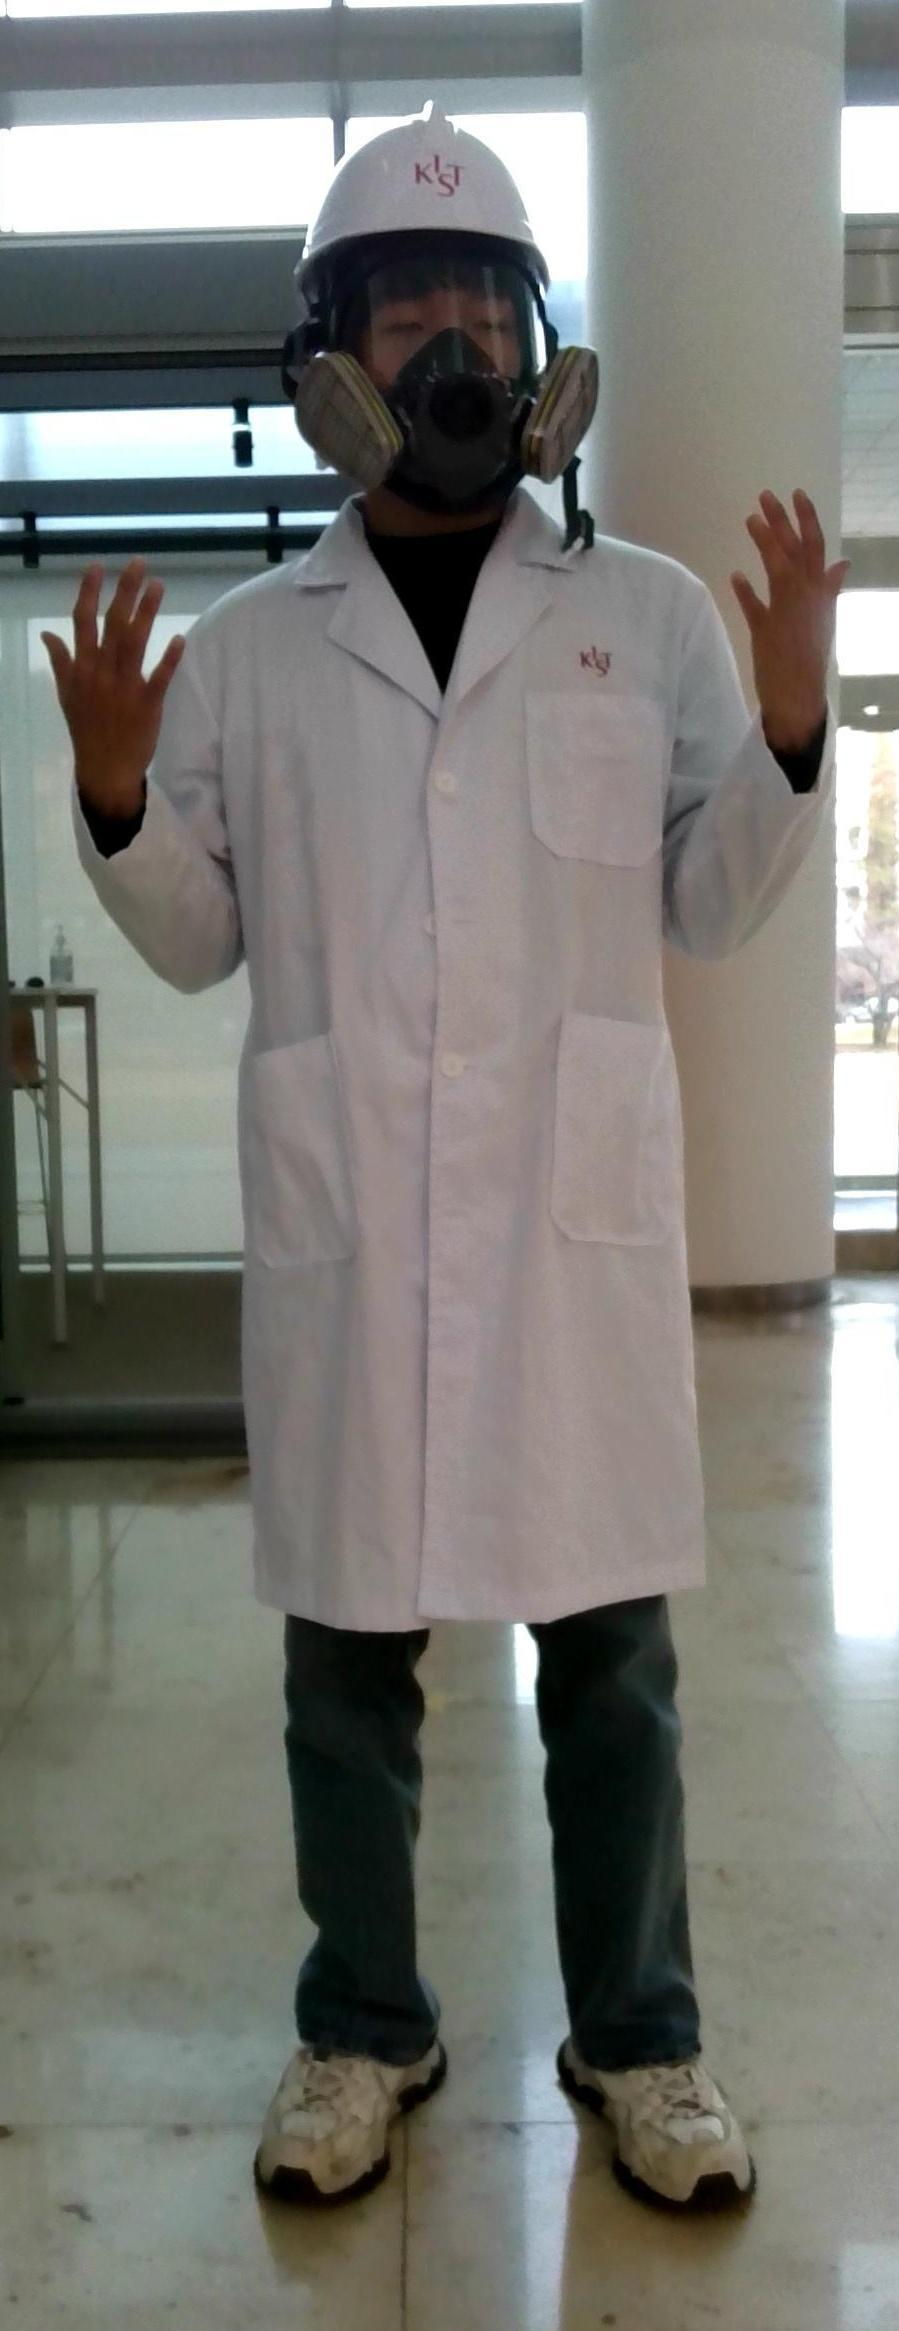lab_coat: (196, 601, 736, 1635)
